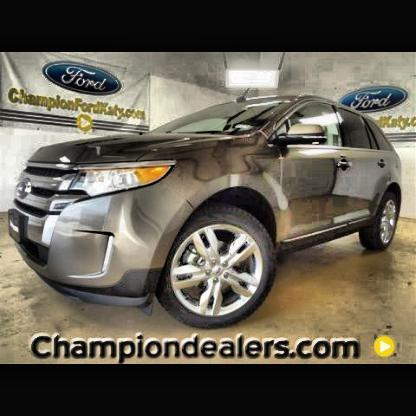Ford Edge SUV 2012: (8, 88, 405, 329)
